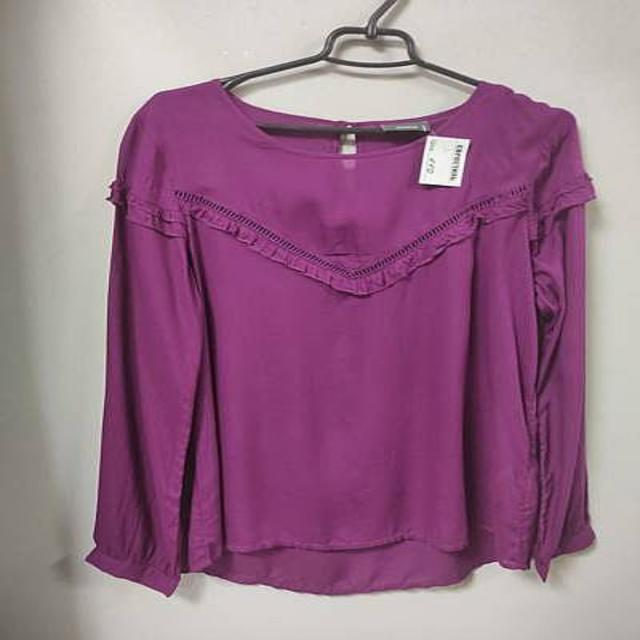T_SHIRT: (57, 63, 619, 601)
